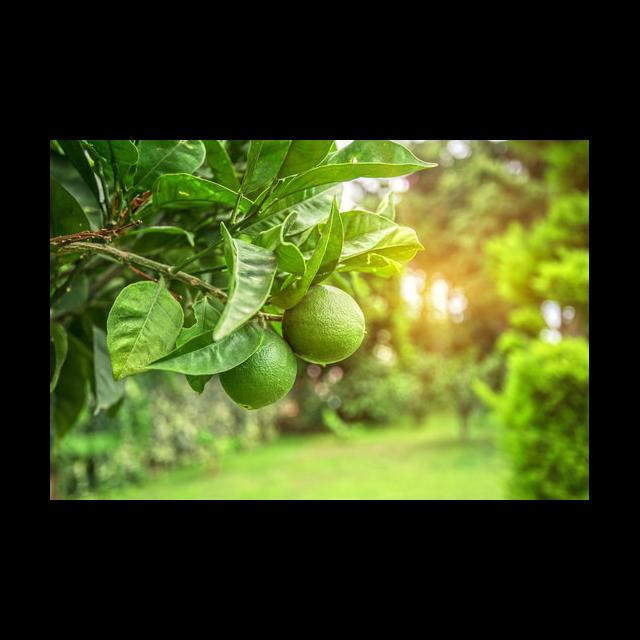lime: (214, 329, 298, 412), (284, 286, 368, 367)
